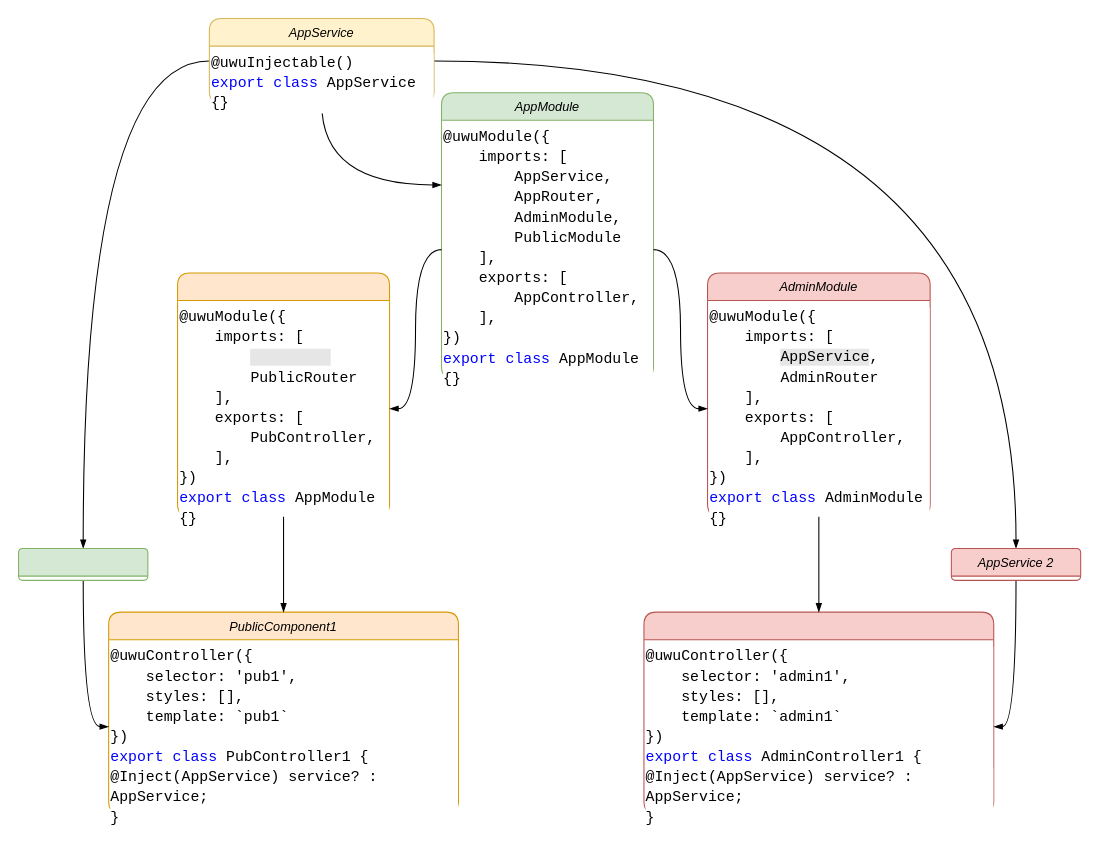
The diagram is 1099 pixels wide and 847 high, and some of its shapes have lost their labels. Each missing label, with the box of its shape:
AdminComponent1: (643, 611, 994, 814)
AppService 1: (17, 547, 148, 580)
PublicModule: (176, 272, 390, 517)
